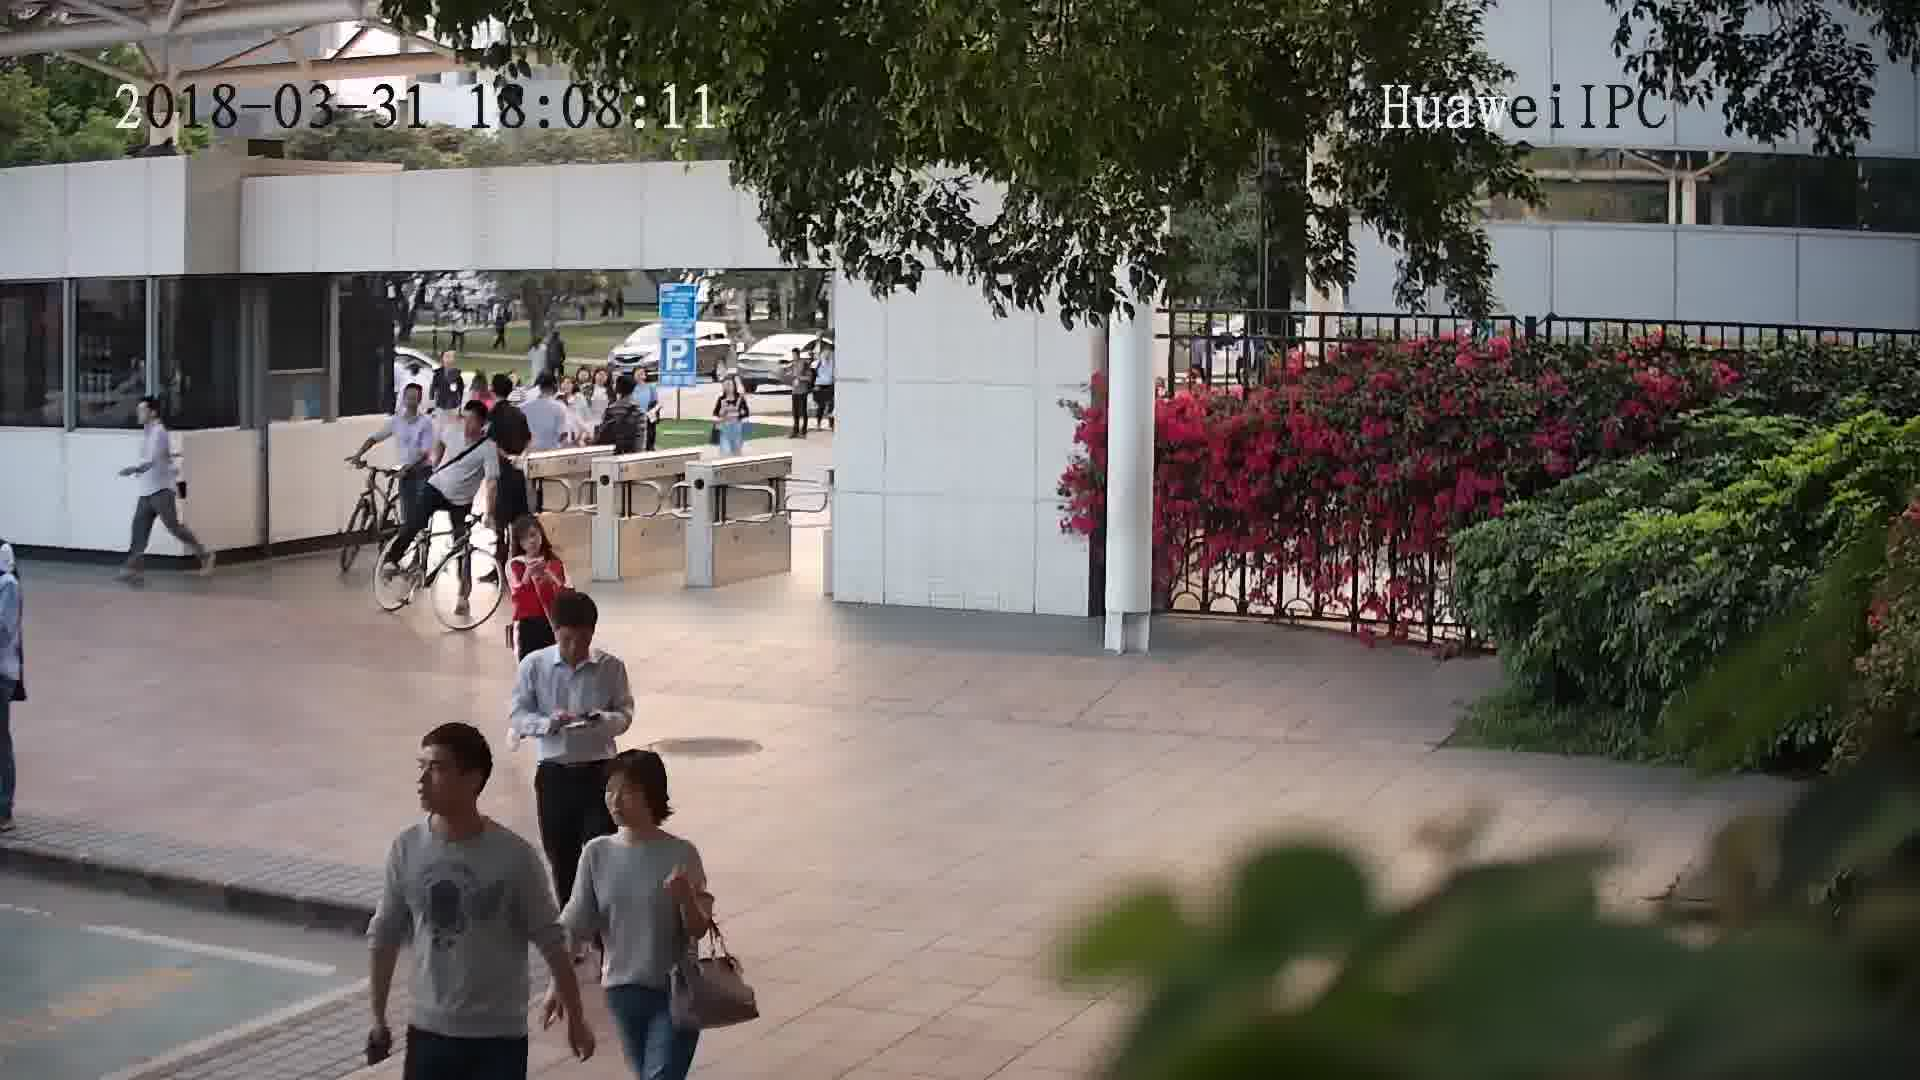face: (402, 732, 481, 811), (594, 771, 650, 827), (554, 622, 596, 664)
person: (387, 724, 538, 878), (581, 748, 702, 874), (523, 587, 623, 688), (506, 515, 563, 578), (446, 396, 496, 456), (383, 377, 434, 431), (131, 390, 177, 448), (525, 371, 568, 423), (486, 371, 526, 426), (605, 376, 649, 419), (427, 346, 467, 381), (626, 363, 656, 401), (713, 376, 747, 406), (586, 365, 613, 401), (783, 343, 814, 375), (560, 376, 590, 409)
